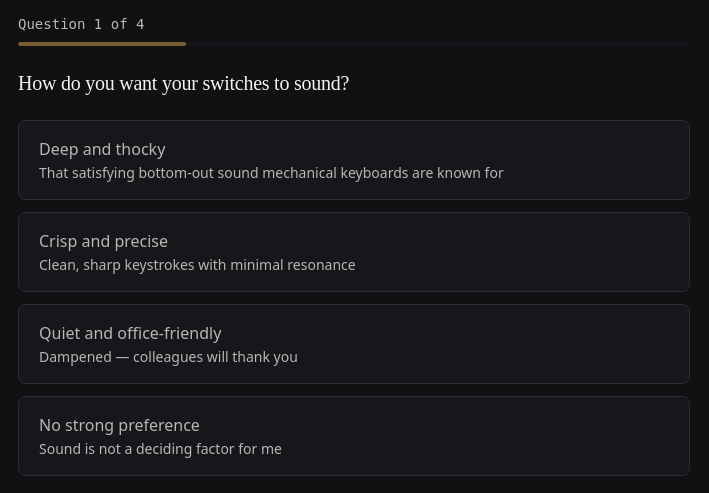
Test case: <SwitchQuiz> › advances to the next question after clicking an option
Click the text "Deep and thocky" at {"x": 102, "y": 149}, box x1=39 y1=138 x2=165 y2=160
Wait 200 ms
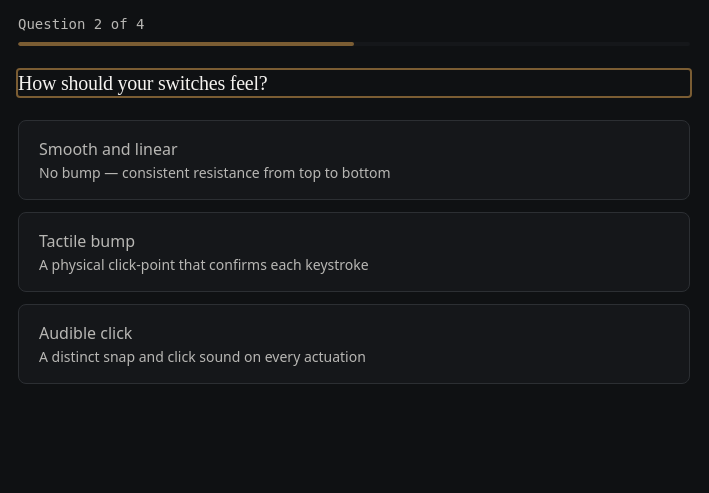
Now the text "Question 2 of 4" is shown, box x1=18 y1=16 x2=144 y2=32
Now the heading "How should your switches feel?" is shown, box x1=18 y1=70 x2=690 y2=96
